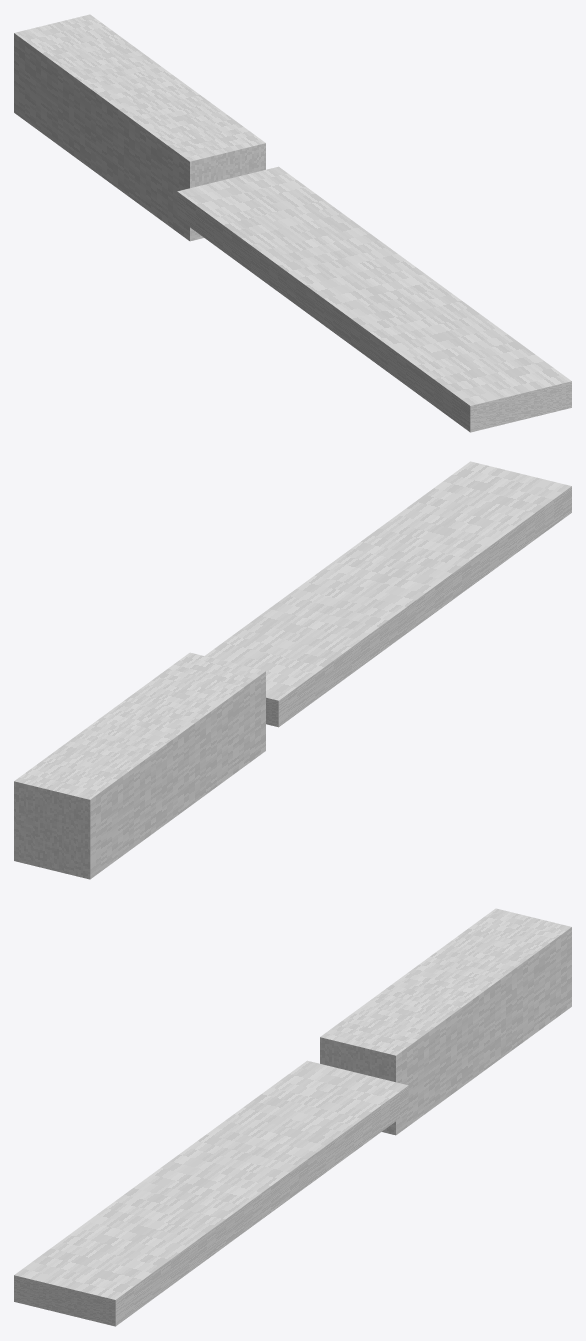
The model's file is kitchen_knife.obj.
3 renders of one model, top to bottom at view 1: azimuth 30°, elevation 25°; view 2: azimuth 150°, elevation 25°; view 3: azimuth 330°, elevation 25°, orthographic.
Visible parts, largest first — view 1: part0, part1; view 2: part0, part1; view 3: part0, part1.
Boxes of the visible parts, x1,y1,x2,y2 form: part0: [177, 166, 571, 432]; part1: [14, 14, 265, 241]; part0: [205, 461, 571, 727]; part1: [14, 652, 265, 879]; part0: [14, 1060, 408, 1326]; part1: [320, 908, 571, 1135].
Size of the model in its own units: 0.04 by 0.03 by 0.32.
Materials: 2 (2 with a texture image).
